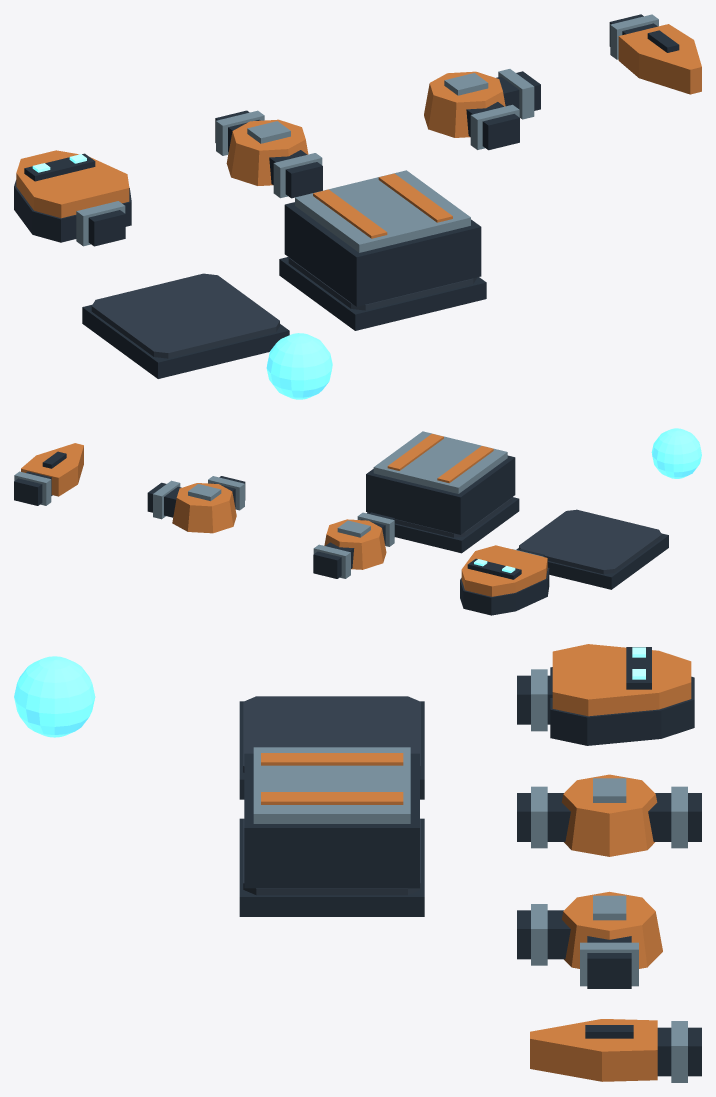
The model's file is dragon_kit.glb.
The picture shows the model from 3 angles, top to bottom: view 1: azimuth 30°, elevation 25°; view 2: azimuth 150°, elevation 25°; view 3: azimuth 270°, elevation 25°; orthographic projection. The views are drawn at different scales.
Visible parts, largest first — view 1: wall, floor, head, turn, straight, tail, food; view 2: wall, floor, head, turn, straight, tail, food; view 3: wall, head, straight, turn, floor, tail, food.
Boxes of the visible parts, bbox=[...] form: wall: bbox=[279, 170, 486, 330]; floor: bbox=[82, 273, 289, 378]; head: bbox=[14, 150, 131, 246]; turn: bbox=[424, 69, 540, 150]; straight: bbox=[215, 110, 322, 198]; tail: bbox=[609, 14, 701, 94]; food: bbox=[266, 333, 332, 399]; wall: bbox=[366, 431, 519, 553]; floor: bbox=[516, 509, 668, 589]; head: bbox=[460, 545, 549, 615]; turn: bbox=[147, 476, 245, 533]; straight: bbox=[313, 512, 394, 578]; tail: bbox=[14, 443, 83, 505]; food: bbox=[651, 428, 701, 478]; wall: bbox=[239, 747, 424, 916]; head: bbox=[517, 644, 694, 745]; straight: bbox=[517, 774, 701, 856]; turn: bbox=[517, 891, 662, 988]; floor: bbox=[239, 696, 424, 799]; tail: bbox=[530, 1019, 701, 1082]; food: bbox=[14, 656, 95, 737].
Size of the model in its own units: 5.21 by 0.6 by 3.72.
